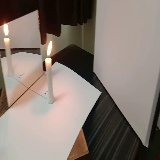fire: (47, 40, 53, 56)
